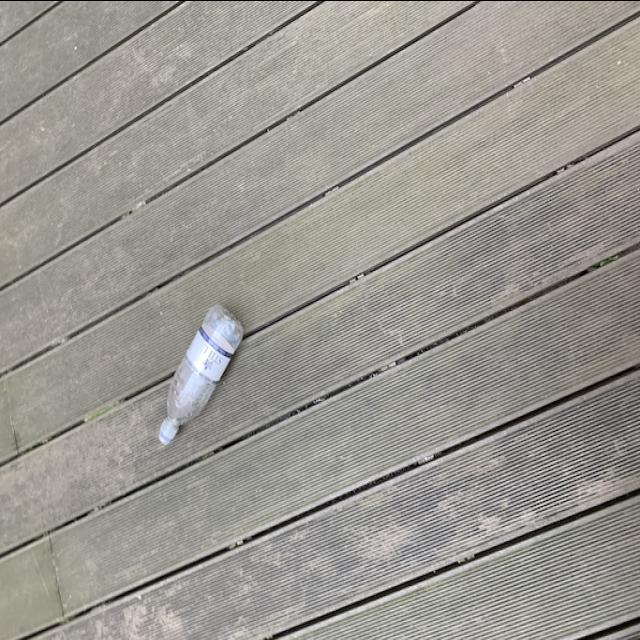PET: (160, 297, 250, 445)
